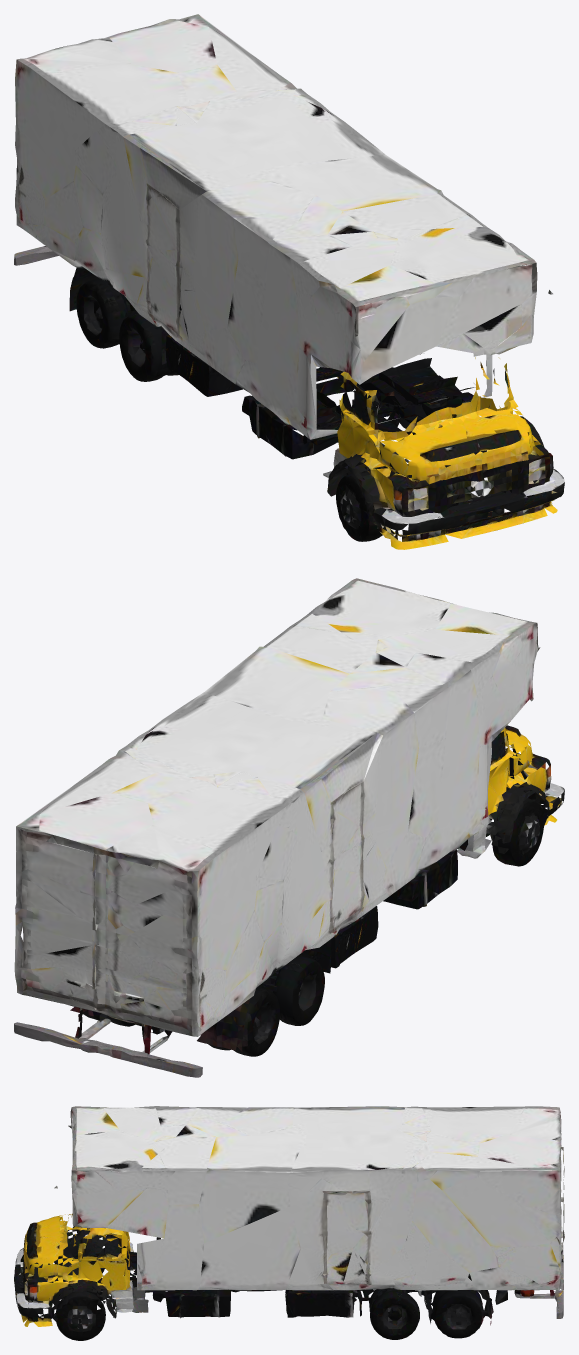
File: caminhao.glb
3 renders of one model, top to bottom at view 1: azimuth 30°, elevation 25°; view 2: azimuth 150°, elevation 25°; view 3: azimuth 270°, elevation 25°, orthographic. The views are drawn at different scales.
Visible parts, largest first — view 1: veiculo; view 2: veiculo; view 3: veiculo.
Boxes of the visible parts, <box> form: veiculo: <box>14,14,564,549</box>; veiculo: <box>14,578,564,1077</box>; veiculo: <box>14,1106,564,1340</box>.
Bounding box in the file's own units: 2.55 × 3.12 × 8.96.
Materials: 1 (1 with a texture image).
